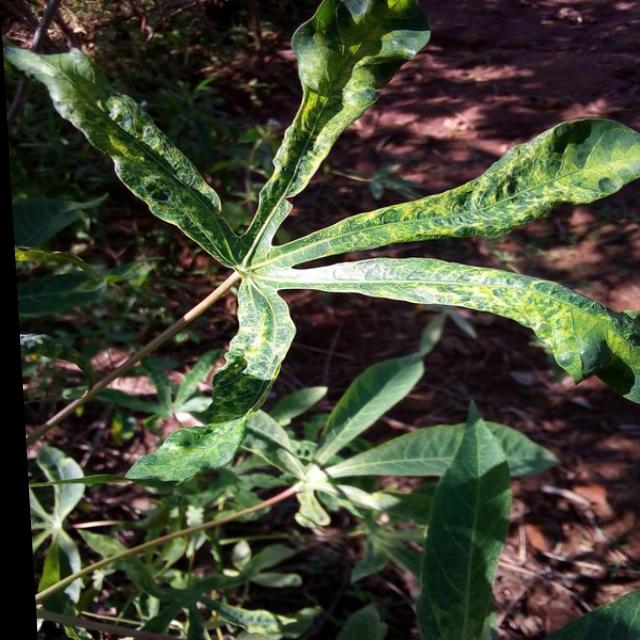Mosaico: (89, 61, 575, 380)
